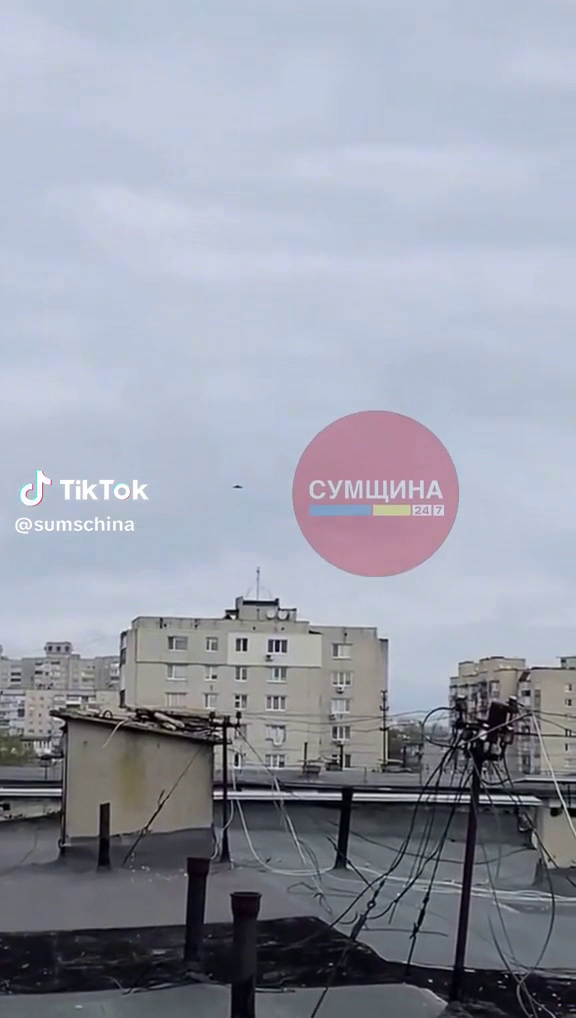shahed: (229, 483, 244, 491)
